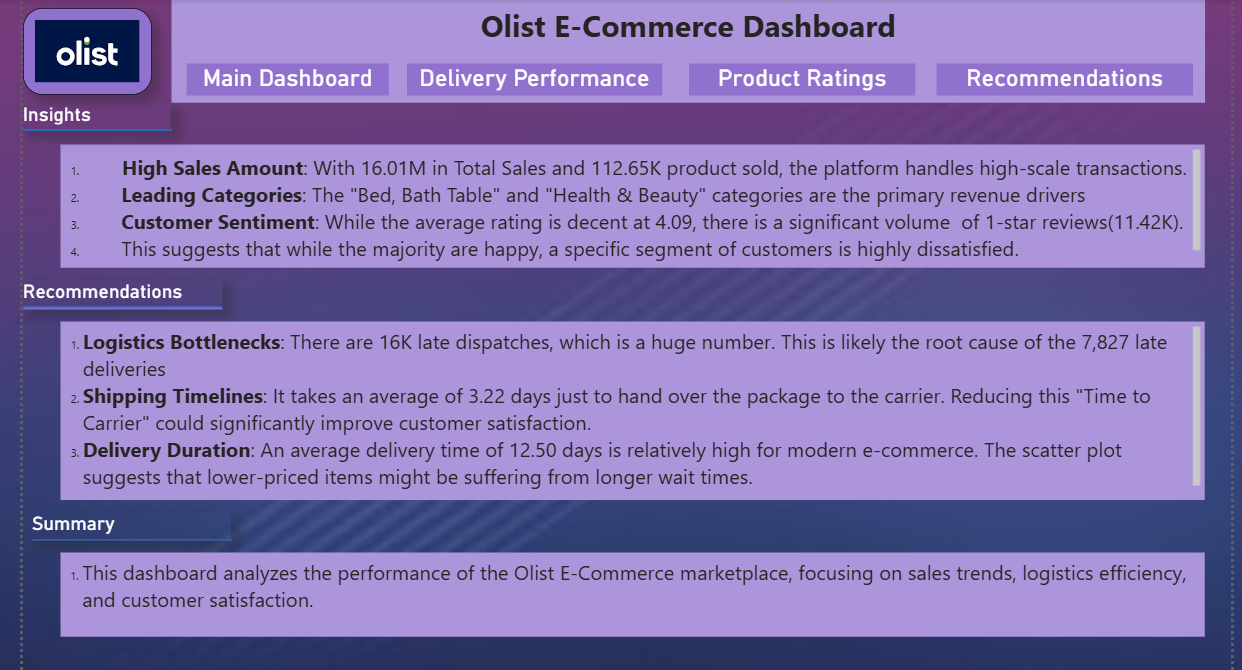

What the dashboard file says about the page in this screenshot:
{"tool":"powerbi","page":{"name":"Page 4","canvas":[1280,720],"ordinal":3},"visuals":[{"type":"textbox","box":[39.8,154.3,1213.6,130.4],"z":0},{"type":"shape","title":"Insights","box":[0,109.8,157.5,30.2],"z":1000},{"type":"shape","title":"Recommendations","box":[0,297.4,211.6,31.8],"z":2000},{"type":"textbox","box":[39.8,342,1213.6,189.3],"z":3000},{"type":"shape","title":"Summary","box":[9.5,544,211.6,30.2],"z":4000},{"type":"textbox","box":[39.8,586.9,1213.6,89.1],"z":5000},{"type":"textbox","box":[157.5,0,1095.9,109.8],"z":6000},{"type":"actionButton","title":"Main Dashboard","box":[173.4,68.4,214.7,41.4],"z":7000},{"type":"actionButton","title":"Delivery Performance","box":[407.2,68.4,270.4,41.4],"z":8000},{"type":"actionButton","title":"Product Ratings","box":[706.2,68.4,240.2,41.4],"z":9000},{"type":"actionButton","title":"Recommendations","box":[968.7,68.4,272,41.4],"z":10000},{"type":"image","box":[0,9.5,136.8,92.3],"z":11000}]}

Visuals, with their boxes in screenshot pixels (x1, y1, x2, y2):
textbox: l=51, t=140, r=1205, b=264
"Insights" shape: l=13, t=98, r=163, b=127
"Recommendations" shape: l=13, t=276, r=214, b=307
textbox: l=51, t=319, r=1205, b=499
"Summary" shape: l=22, t=511, r=223, b=539
textbox: l=51, t=552, r=1205, b=636
textbox: l=163, t=0, r=1205, b=98
"Main Dashboard" actionButton: l=178, t=59, r=382, b=98
"Delivery Performance" actionButton: l=400, t=59, r=657, b=98
"Product Ratings" actionButton: l=684, t=59, r=913, b=98
"Recommendations" actionButton: l=934, t=59, r=1193, b=98
image: l=13, t=3, r=143, b=90
